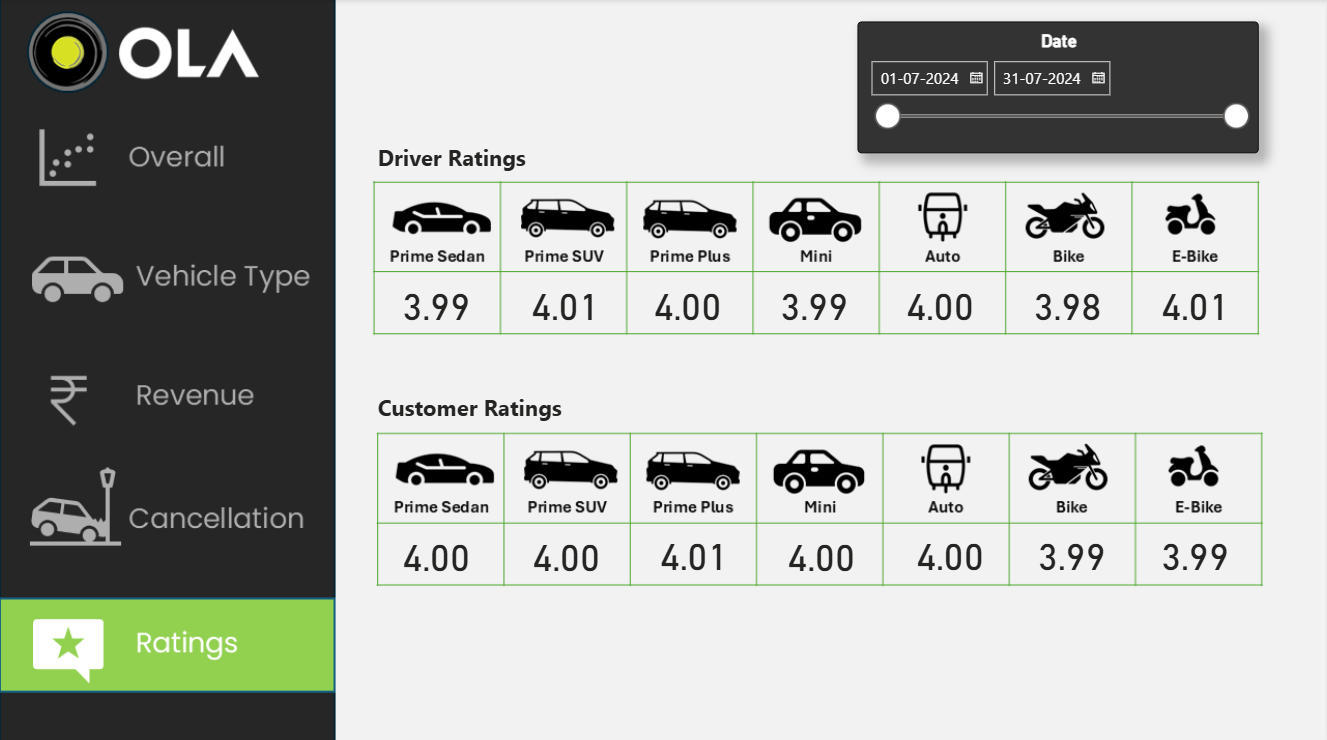

The page's visual inventory and layout, read from the dashboard file:
{"tool":"powerbi","page":{"name":"Rating","canvas":[1280,720],"ordinal":4},"visuals":[{"type":"actionButton","box":[0,219.6,324.1,91.7],"z":0},{"type":"actionButton","box":[0,103.8,324.5,90.5],"z":1000},{"type":"actionButton","box":[0,340.2,324.5,90.5],"z":2000},{"type":"actionButton","box":[0,445.2,324.5,114.6],"z":3000},{"type":"card","fields":{"Values":["Avg(OLA Bookings Excel file.Driver_Ratings)"]},"box":[360,265,123.8,57.5],"z":3001},{"type":"card","fields":{"Values":["Avg(OLA Bookings Excel file.Driver_Ratings)"]},"box":[602.5,265,123.8,57.5],"z":3002},{"type":"card","fields":{"Values":["Avg(OLA Bookings Excel file.Driver_Ratings)"]},"box":[726.2,265,120,57.5],"z":3003},{"type":"card","fields":{"Values":["Avg(OLA Bookings Excel file.Driver_Ratings)"]},"box":[846.2,265,123.8,57.5],"z":3004},{"type":"card","fields":{"Values":["Avg(OLA Bookings Excel file.Driver_Ratings)"]},"box":[970,265,121.2,57.5],"z":3005},{"type":"card","fields":{"Values":["Avg(OLA Bookings Excel file.Driver_Ratings)"]},"box":[1091.2,265,123.8,57.5],"z":3006},{"type":"card","fields":{"Values":["Avg(OLA Bookings Excel file.Driver_Ratings)"]},"box":[483.8,265,123.8,57.5],"z":3007},{"type":"textbox","box":[360,132.5,168.8,41.2],"z":3008},{"type":"textbox","box":[360,373.8,223.8,46.2],"z":3010},{"type":"card","fields":{"Values":["Avg(OLA Bookings Excel file.Customer_Rating)"]},"box":[360,502.5,123.8,66.2],"z":3011},{"type":"card","fields":{"Values":["Avg(OLA Bookings Excel file.Customer_Rating)"]},"box":[485,503.8,123.8,63.8],"z":3012},{"type":"card","fields":{"Values":["Avg(OLA Bookings Excel file.Customer_Rating)"]},"box":[607.5,503.8,123.8,62.5],"z":3013},{"type":"card","fields":{"Values":["Avg(OLA Bookings Excel file.Customer_Rating)"]},"box":[731.2,503.8,123.8,63.8],"z":3014},{"type":"card","fields":{"Values":["Avg(OLA Bookings Excel file.Customer_Rating)"]},"box":[855,503.8,123.8,62.5],"z":3015},{"type":"card","fields":{"Values":["Avg(OLA Bookings Excel file.Customer_Rating)"]},"box":[978.8,503.8,112.5,62.5],"z":3016},{"type":"card","fields":{"Values":["Avg(OLA Bookings Excel file.Customer_Rating)"]},"box":[1091.2,503.8,123.8,62.5],"z":3017},{"type":"slicer","title":"Date","fields":{"Values":["OLA Bookings Excel file.Date"]},"box":[827.5,21.2,387.5,127.5],"z":3018}]}

Visuals, with their boxes in screenshot pixels (x1, y1, x2, y2), scaled from the page's 1280x720 canvas onto the 1327x740 screenshot:
actionButton: bbox=(0, 226, 336, 320)
actionButton: bbox=(0, 107, 336, 200)
actionButton: bbox=(0, 350, 336, 443)
actionButton: bbox=(0, 458, 336, 575)
card - Avg(OLA Bookings Excel file.Driver_Ratings): bbox=(373, 272, 502, 331)
card - Avg(OLA Bookings Excel file.Driver_Ratings): bbox=(625, 272, 753, 331)
card - Avg(OLA Bookings Excel file.Driver_Ratings): bbox=(753, 272, 877, 331)
card - Avg(OLA Bookings Excel file.Driver_Ratings): bbox=(877, 272, 1006, 331)
card - Avg(OLA Bookings Excel file.Driver_Ratings): bbox=(1006, 272, 1131, 331)
card - Avg(OLA Bookings Excel file.Driver_Ratings): bbox=(1131, 272, 1260, 331)
card - Avg(OLA Bookings Excel file.Driver_Ratings): bbox=(502, 272, 630, 331)
textbox: bbox=(373, 136, 548, 179)
textbox: bbox=(373, 384, 605, 432)
card - Avg(OLA Bookings Excel file.Customer_Rating): bbox=(373, 516, 502, 584)
card - Avg(OLA Bookings Excel file.Customer_Rating): bbox=(503, 518, 631, 583)
card - Avg(OLA Bookings Excel file.Customer_Rating): bbox=(630, 518, 758, 582)
card - Avg(OLA Bookings Excel file.Customer_Rating): bbox=(758, 518, 886, 583)
card - Avg(OLA Bookings Excel file.Customer_Rating): bbox=(886, 518, 1015, 582)
card - Avg(OLA Bookings Excel file.Customer_Rating): bbox=(1015, 518, 1131, 582)
card - Avg(OLA Bookings Excel file.Customer_Rating): bbox=(1131, 518, 1260, 582)
"Date" slicer: bbox=(858, 22, 1260, 153)
